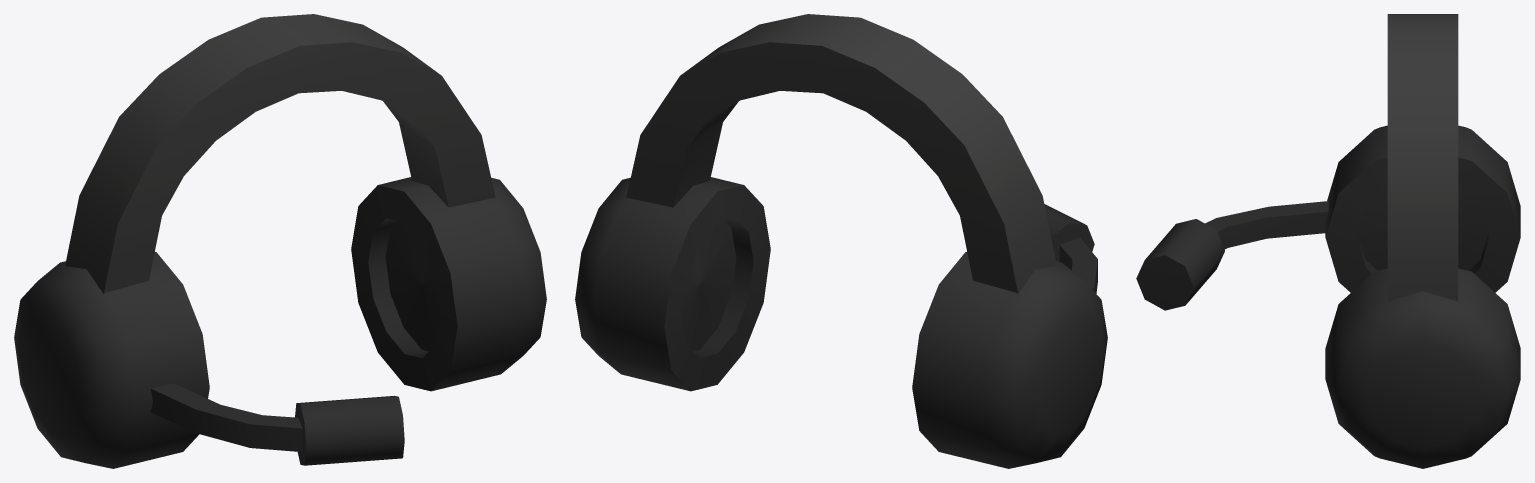
Rendered from Collectable_Headphone_01.fbx.
3 views of the same model, side by side, from view 1: azimuth 30°, elevation 25°; view 2: azimuth 150°, elevation 25°; view 3: azimuth 270°, elevation 25° (orthographic). The views are drawn at different scales.
Visible parts, largest first — view 1: Collectable_Headphone_01; view 2: Collectable_Headphone_01; view 3: Collectable_Headphone_01.
Boxes of the visible parts, x1=… form: Collectable_Headphone_01: x1=14, y1=14, x2=546, y2=468; Collectable_Headphone_01: x1=575, y1=14, x2=1107, y2=468; Collectable_Headphone_01: x1=1136, y1=14, x2=1520, y2=468.
Bounding box in the file's own units: 86.18 × 68.62 × 68.1.
1 material, 1 textured.
